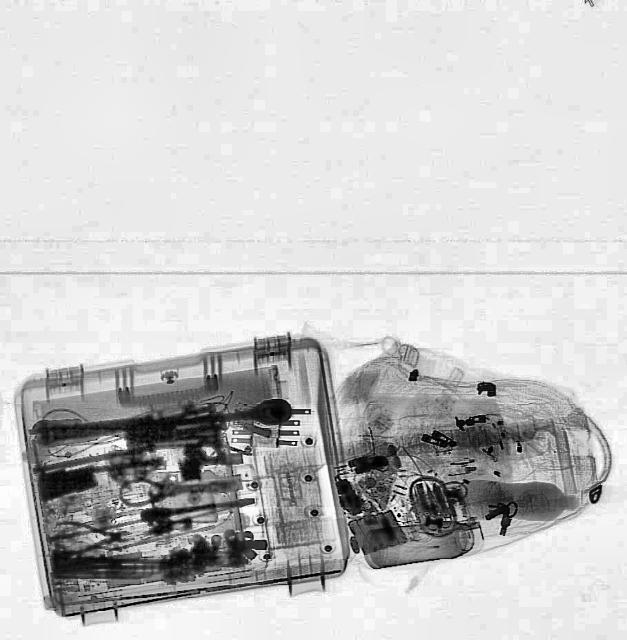Pliers: (53, 517, 132, 555)
